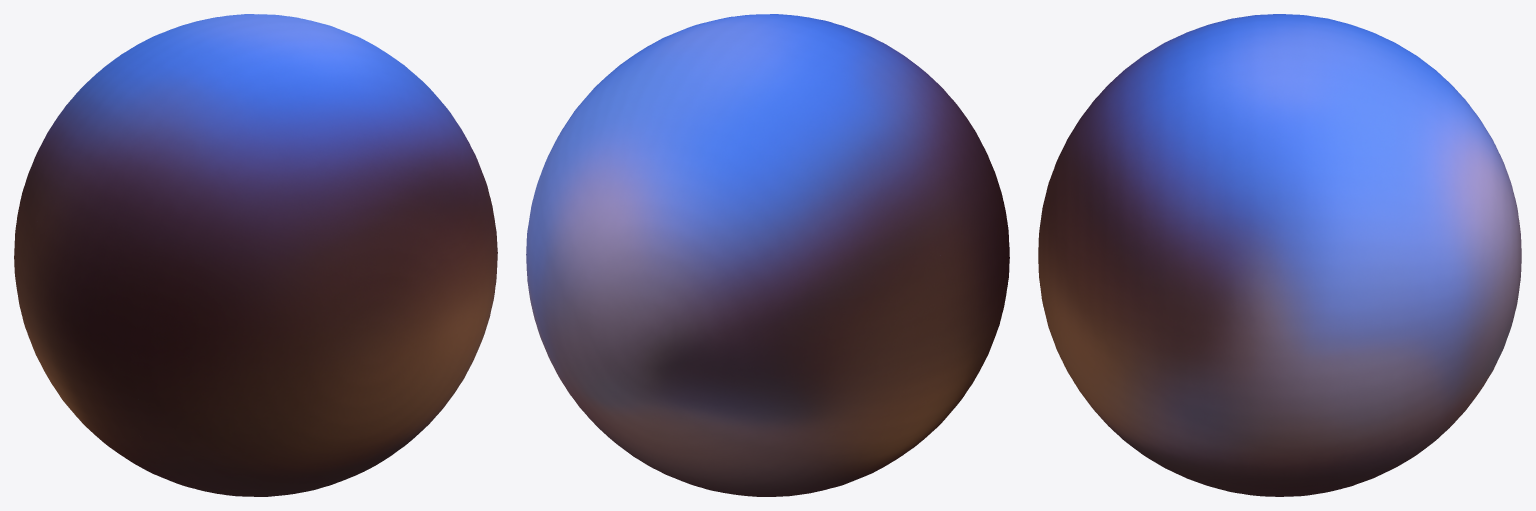
The model's file is zorb.glb.
3 views of the same model, side by side, from view 1: azimuth 30°, elevation 25°; view 2: azimuth 150°, elevation 25°; view 3: azimuth 270°, elevation 25° (orthographic).
Visible parts, largest first — view 1: model; view 2: model; view 3: model.
Boxes of the visible parts, box(x1,y1,x2,y2) form: model: box(14, 14, 497, 496); model: box(526, 14, 1009, 496); model: box(1038, 14, 1521, 496).
Size of the model in its own units: 1.91 by 1.91 by 1.91.
Materials: 1 (1 with a texture image).
